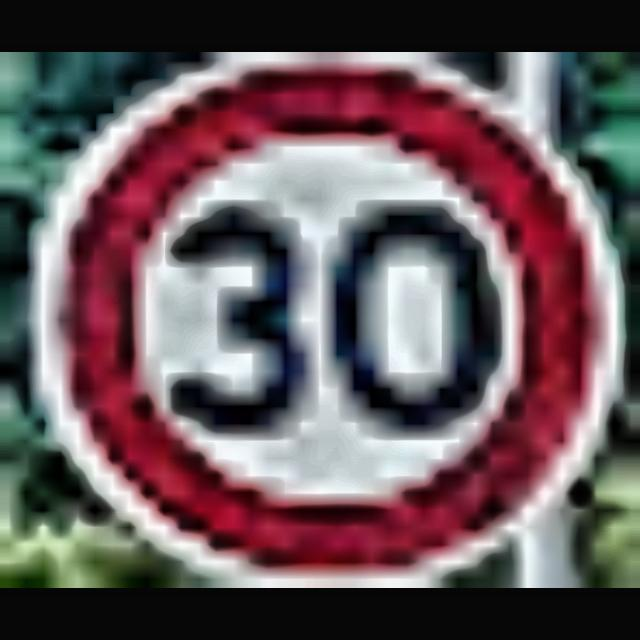speed_30: (0, 52, 622, 570)
